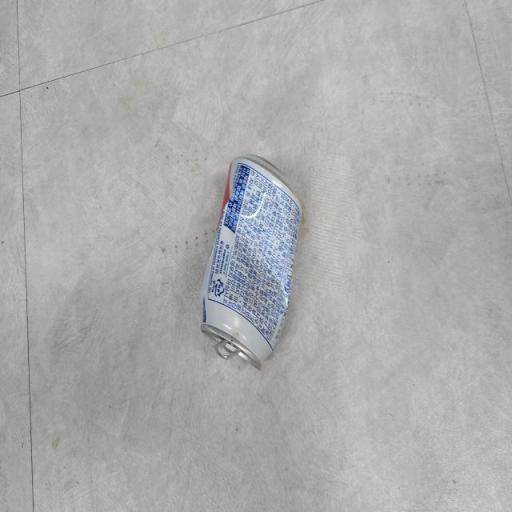metal: (183, 130, 318, 398)
